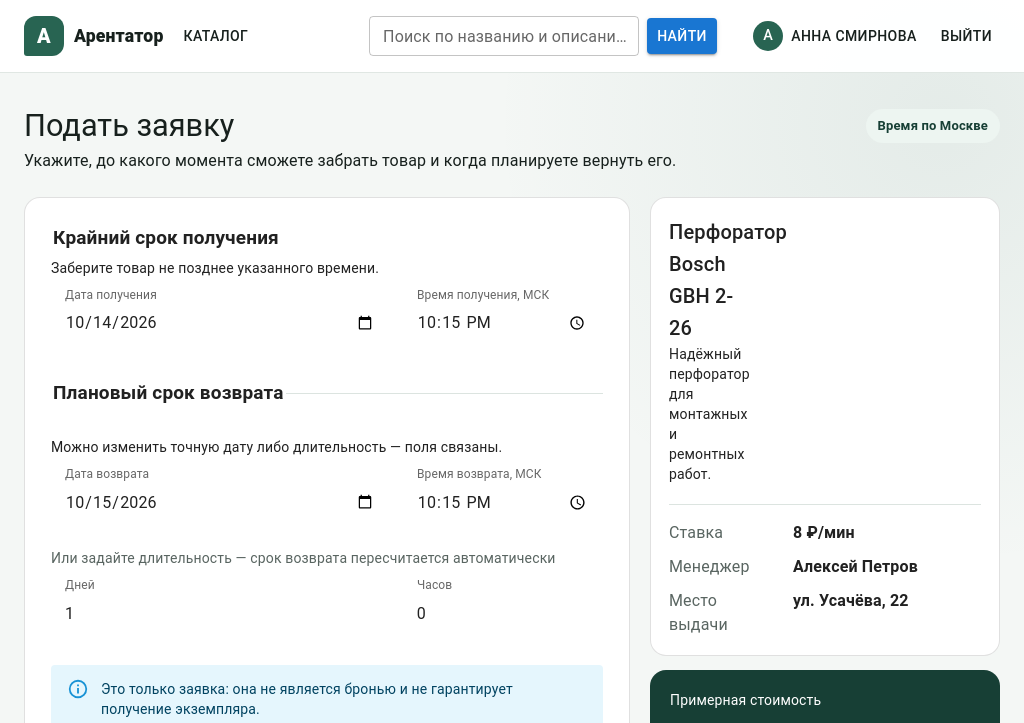
it: renter applications › rejects a pickup deadline in the past before sending the request
The image size is (1024, 723).
Check: the heading "Подать заявку" is shown, box [24,107,234,144]
Type "2020-01-01" into the date field labelled "Дата получения" at [220, 323], box [51,295,389,351]
(page scrolled)
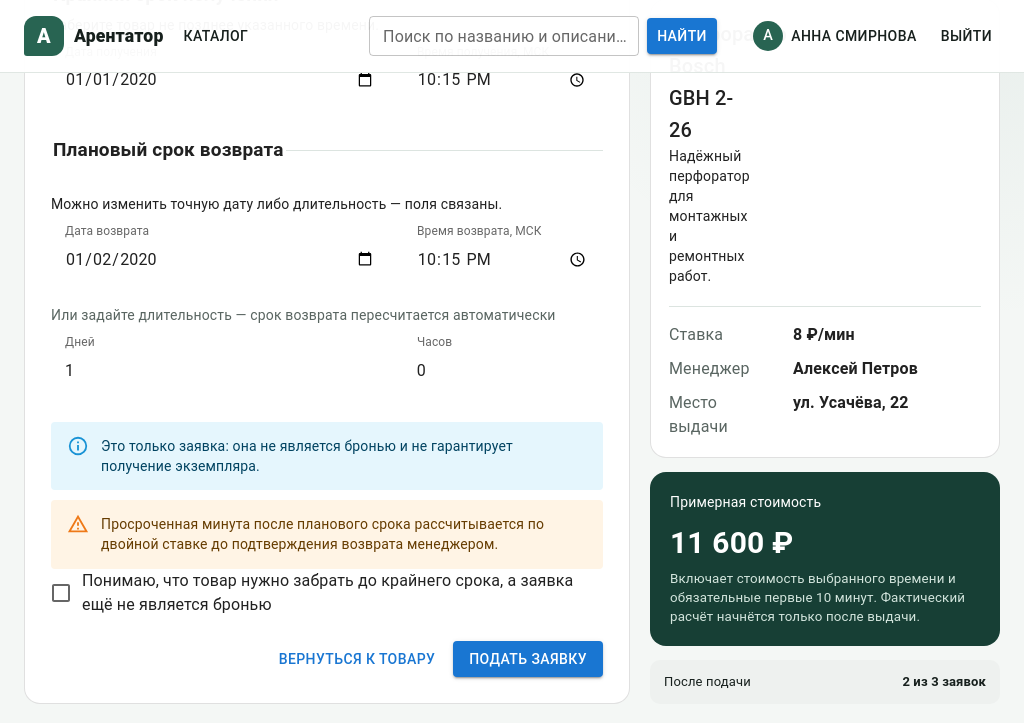
Click the checkbox labelled "Понимаю, что товар нужно забрать" at [314, 592], box [40,568,587,616]
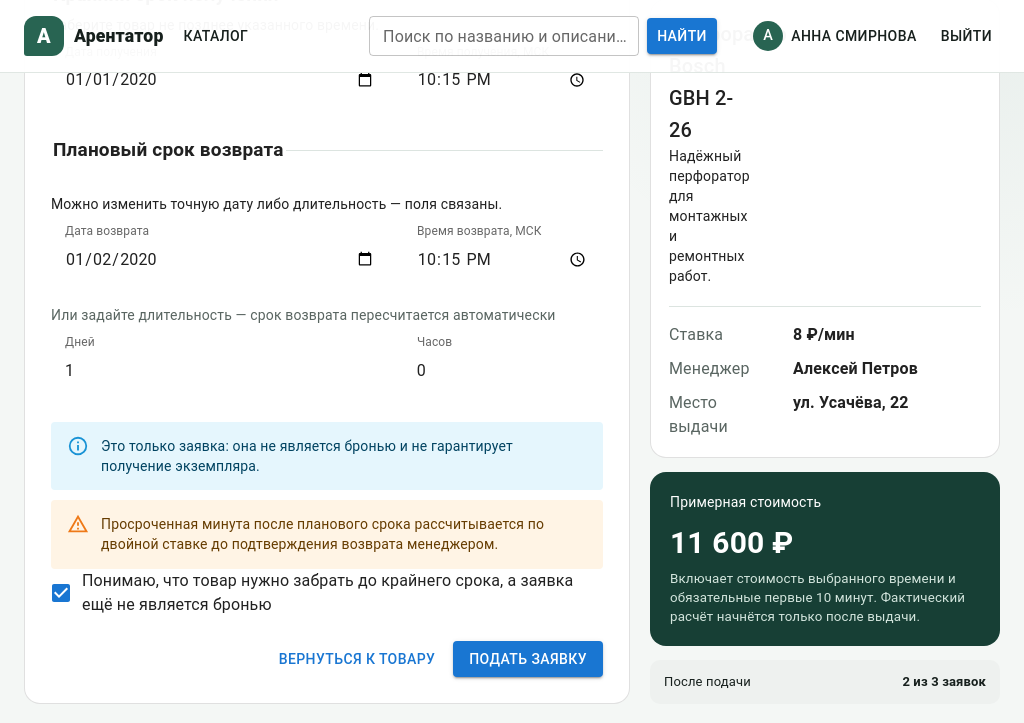
Click the button "Подать заявку" at [528, 659], box [453,640,603,677]
(page scrolled)
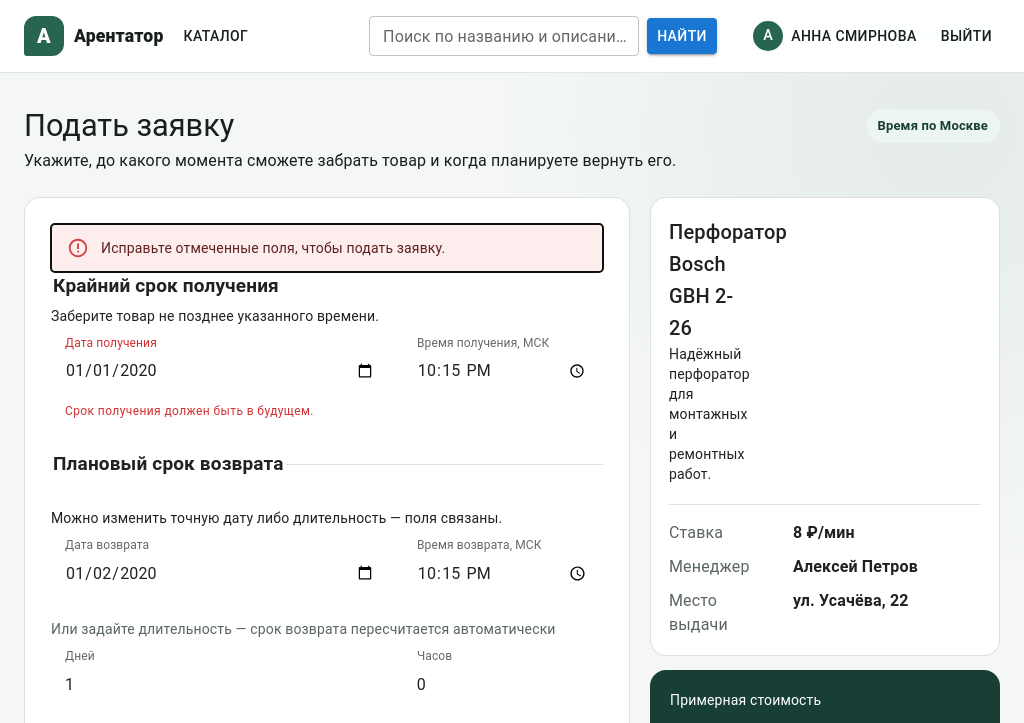
Check: the text "Срок получения должен быть в будущем." is shown, box [65,404,314,418]
